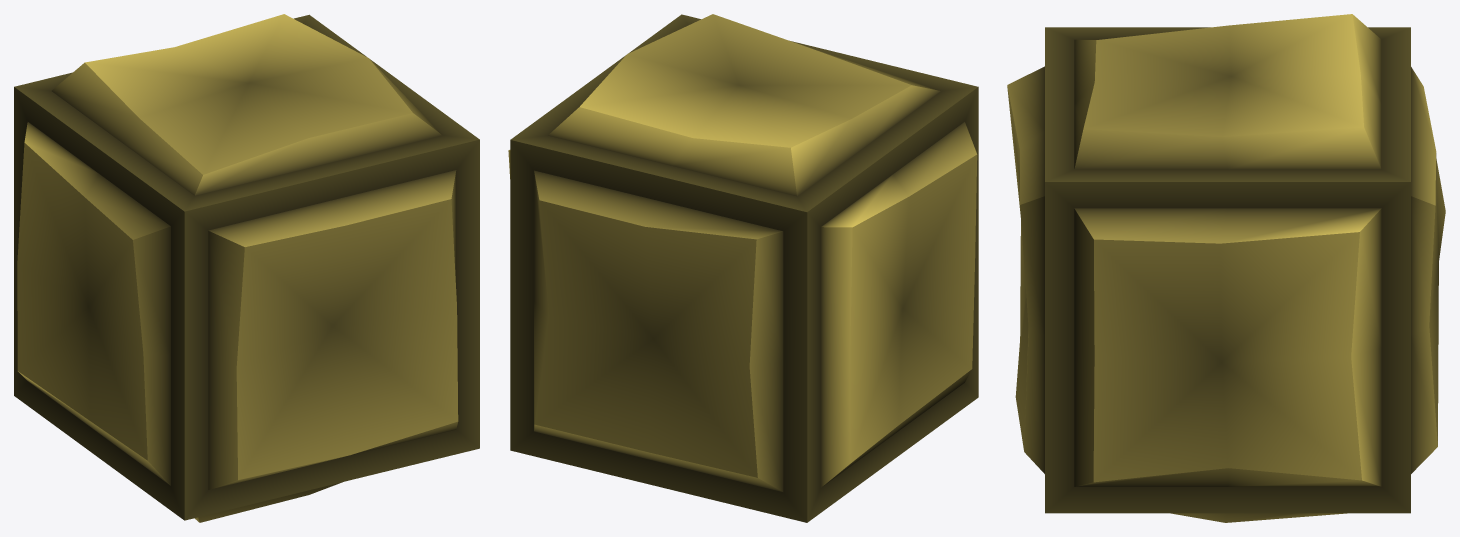
Rendered from Block1.fbx.
3 renders of one model, left to right at view 1: azimuth 30°, elevation 25°; view 2: azimuth 150°, elevation 25°; view 3: azimuth 270°, elevation 25°, orthographic. The views are drawn at different scales.
Visible parts, largest first — view 1: Block1; view 2: Block1; view 3: Block1.
Part boxes in pixels (left/top/right/bottom): Block1: left=14, top=14, right=479, bottom=522; Block1: left=508, top=14, right=978, bottom=522; Block1: left=1007, top=14, right=1445, bottom=522.
Size of the model in its own units: 234 by 241 by 240.
